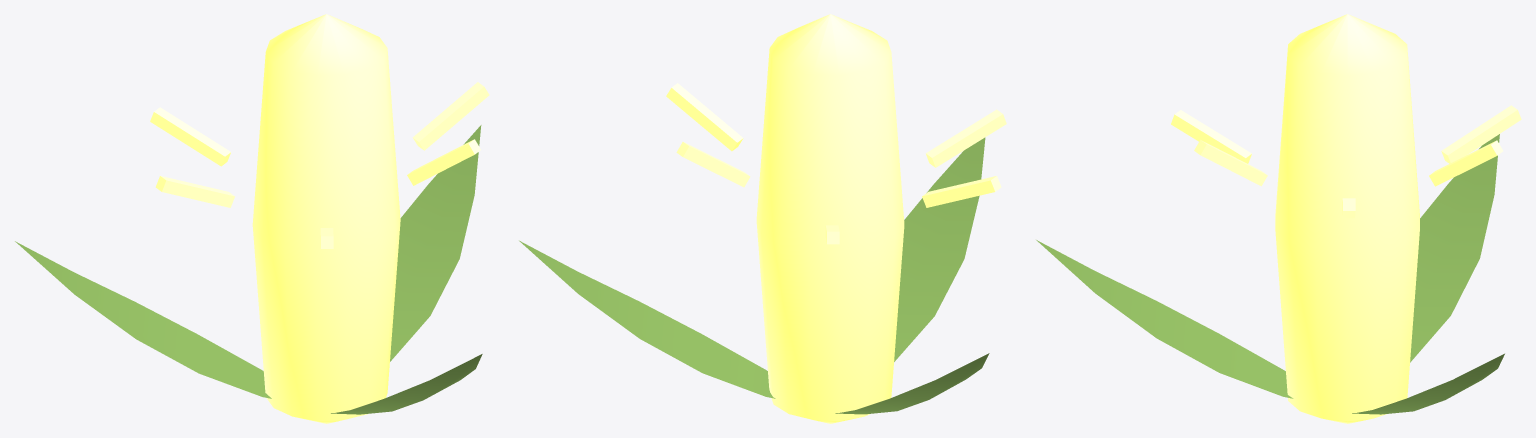
The model's file is fruit-corn-shocked.gltf.
The picture shows the model from 3 angles, left to right: view 1: azimuth 30°, elevation 25°; view 2: azimuth 150°, elevation 25°; view 3: azimuth 270°, elevation 25°; orthographic projection.
Size of the model in its own units: 0.6146 by 0.513 by 0.5517.
